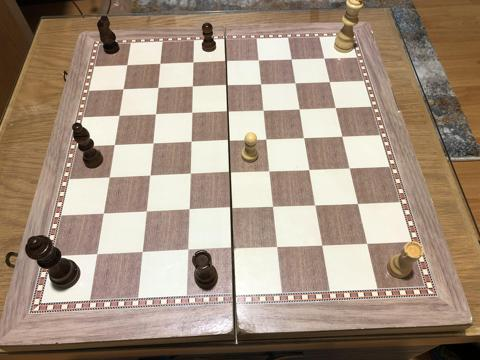xcorner: (148, 109, 160, 122), (352, 198, 364, 211), (139, 207, 151, 220), (318, 53, 330, 65), (285, 54, 297, 66), (252, 55, 264, 67), (219, 56, 231, 68), (186, 58, 198, 70), (153, 59, 165, 71), (120, 60, 132, 72), (324, 76, 336, 88), (289, 78, 301, 90), (255, 79, 267, 91), (220, 80, 232, 92), (186, 82, 198, 94), (151, 83, 163, 95), (116, 84, 128, 96), (330, 102, 342, 114), (294, 104, 306, 116), (257, 105, 269, 117), (221, 107, 233, 119), (185, 108, 197, 120), (112, 111, 124, 123), (336, 131, 348, 143), (298, 133, 310, 145), (260, 134, 272, 146), (222, 136, 234, 148), (184, 137, 196, 149), (146, 139, 158, 151), (107, 140, 119, 152), (344, 163, 356, 175), (304, 165, 316, 177), (264, 166, 276, 178), (223, 168, 235, 180), (183, 170, 195, 182), (143, 171, 155, 183), (102, 173, 114, 185), (310, 200, 322, 212), (267, 202, 279, 214), (225, 204, 237, 216), (182, 206, 194, 218), (96, 209, 108, 221), (361, 238, 373, 250), (316, 240, 328, 252), (271, 242, 283, 254), (226, 244, 238, 256), (181, 246, 193, 258), (135, 248, 147, 260), (90, 250, 102, 262)
